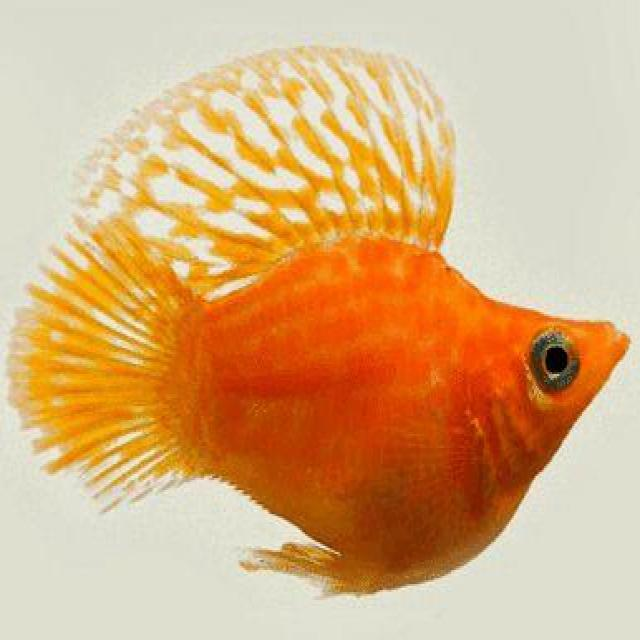PlatyFish: (8, 10, 635, 614)
